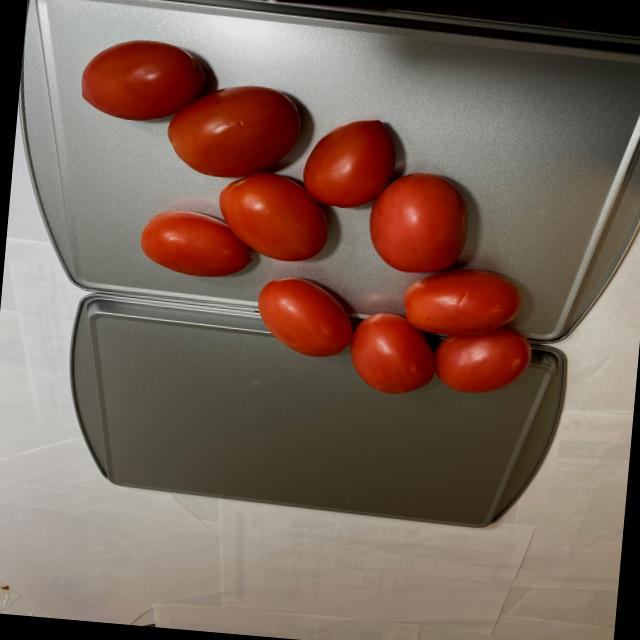tomato: (49, 34, 560, 410)
